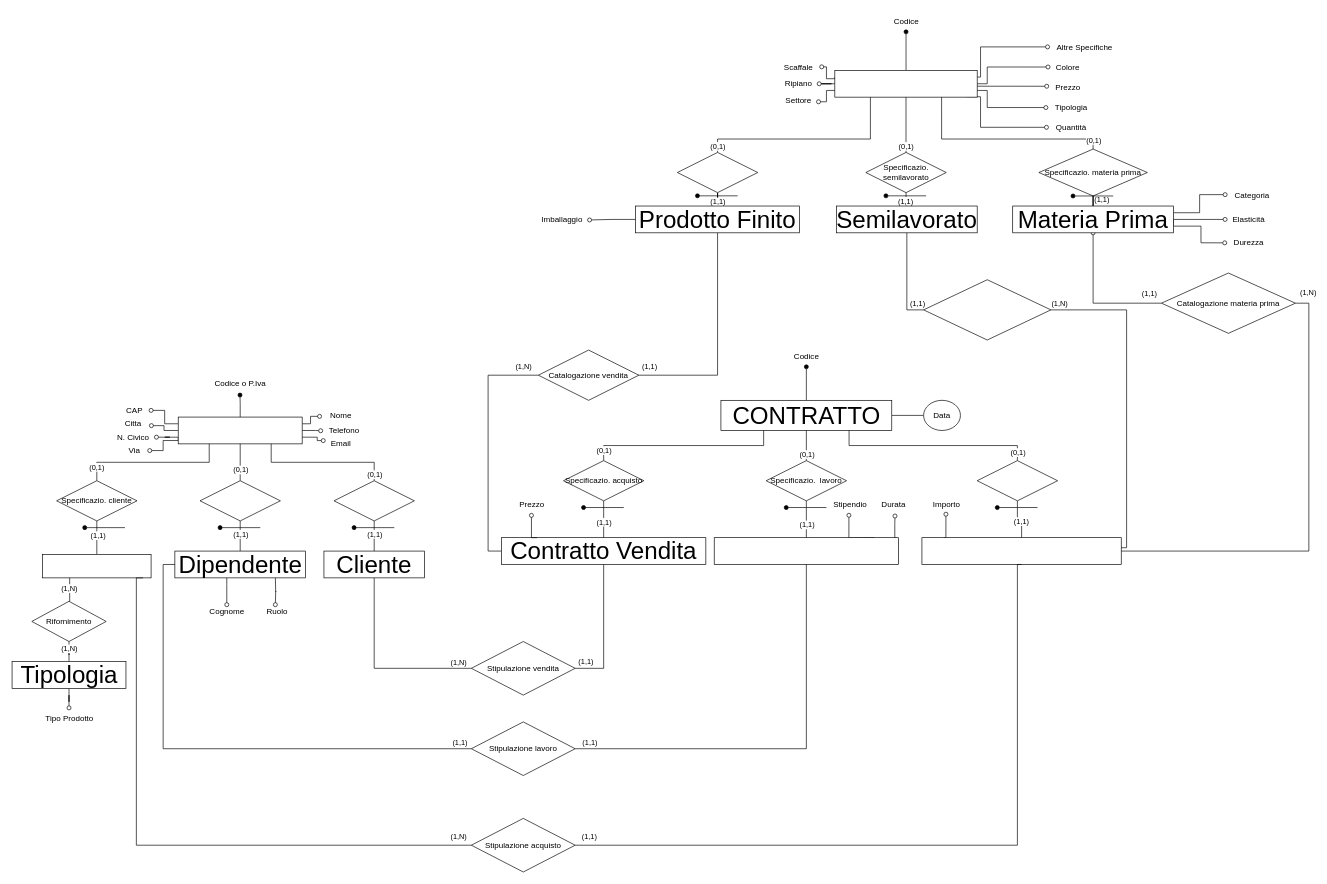
This 1327x884 diagram has some shape labels left out. Here are the shapes that lost their labels. From the top down, the box of each, then its label:
(834, 70, 977, 97): MATERIALE
(677, 152, 758, 193): Specificazio. prodotto finito
(923, 279, 1051, 340): Catalogazione semilavorato
(178, 416, 302, 444): PERSONA
(199, 480, 280, 521): Specificazio. dipendente
(333, 480, 414, 521): Specificazio. fornitore
(977, 460, 1058, 501): Specificazio. vendita
(42, 554, 151, 578): Fornitore
(714, 537, 898, 564): Contratto Lavoro
(921, 537, 1121, 564): Contratto Acquisto
